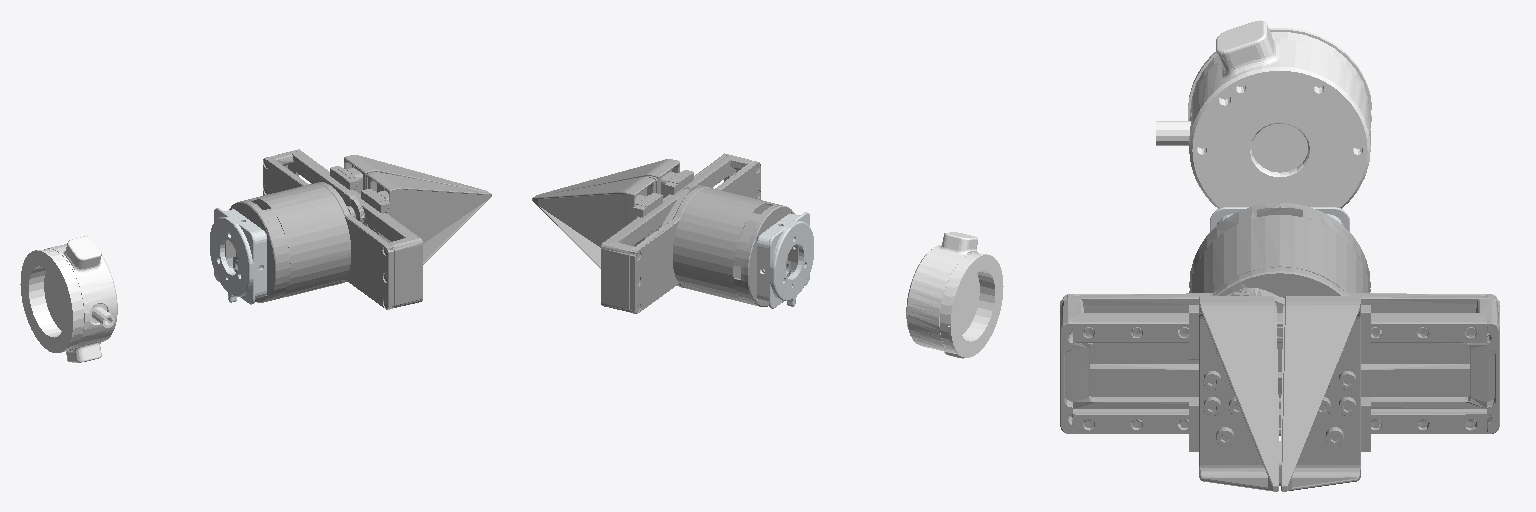
URDF robot description (play_g2):
<?xml version="1.0" ?>
<robot name="play_g2">
  <mujoco>
    <compiler meshdir="../meshes"/>
  </mujoco>
  <link name="base_link">
    <inertial>
      <origin xyz="-0.018345 -0.002558 0.03724" rpy="0 0 0"/>
      <mass value="0.6735"/>
      <inertia ixx="0.00121381" ixy="-3.271E-05" ixz="-0.00023366" iyy="0.00164872" iyz="-2.757E-05" izz="0.00126552"/>
    </inertial>
    <visual>
      <origin xyz="0 0 0" rpy="0 0 0"/>
      <geometry>
        <mesh filename="package://play_g2/meshes/base_link.STL"/>
      </geometry>
      <material name="">
        <color rgba="0.75294 0.75294 0.75294 1"/>
      </material>
    </visual>
    <collision>
      <origin xyz="0 0 0" rpy="0 0 0"/>
      <geometry>
        <mesh filename="package://play_g2/meshes/base_link.STL"/>
      </geometry>
    </collision>
  </link>
  <link name="link1">
    <inertial>
      <origin xyz="0.00014396 -0.00098536 -0.020968" rpy="0 0 0"/>
      <mass value="0.607"/>
      <inertia ixx="0.0011117" ixy="1.605E-05" ixz="-1.45E-06" iyy="0.0010136" iyz="-7.07E-06" izz="0.0003867"/>
    </inertial>
    <visual>
      <origin xyz="0 0 0" rpy="0 0 0"/>
      <geometry>
        <mesh filename="package://play_g2/meshes/link1.STL"/>
      </geometry>
      <material name="">
        <color rgba="0.75294 0.75294 0.75294 1"/>
      </material>
    </visual>
    <collision>
      <origin xyz="0 0 0" rpy="0 0 0"/>
      <geometry>
        <mesh filename="package://play_g2/meshes/link1.STL"/>
      </geometry>
    </collision>
  </link>
  <link name="link2">
    <inertial>
      <origin xyz="0.13769 0.012537 0.0044739" rpy="0 0 0"/>
      <mass value="0.918"/>
      <inertia ixx="0.00094437" ixy="0.00112155" ixz="-0.00063705" iyy="0.03479442" iyz="-7.45E-06" izz="0.03461144"/>
    </inertial>
    <visual>
      <origin xyz="0 0 0" rpy="0 0 0"/>
      <geometry>
        <mesh filename="package://play_g2/meshes/link2.STL"/>
      </geometry>
      <material name="">
        <color rgba="0.75294 0.75294 0.75294 1"/>
      </material>
    </visual>
    <collision>
      <origin xyz="0 0 0" rpy="0 0 0"/>
      <geometry>
        <mesh filename="package://play_g2/meshes/link2.STL"/>
      </geometry>
    </collision>
  </link>
  <link name="link3">
    <inertial>
      <origin xyz="1.5134E-05 0.10706 0.0082136" rpy="0 0 0"/>
      <mass value="0.7"/>
      <inertia ixx="0.01565914" ixy="1.007E-05" ixz="1.02E-06" iyy="0.00045929" iyz="0.00010253" izz="0.0154811"/>
    </inertial>
    <visual>
      <origin xyz="0 0 0" rpy="0 0 0"/>
      <geometry>
        <mesh filename="package://play_g2/meshes/link3.STL"/>
      </geometry>
      <material name="">
        <color rgba="0.75294 0.75294 0.75294 1"/>
      </material>
    </visual>
    <collision>
      <origin xyz="0 0 0" rpy="0 0 0"/>
      <geometry>
        <mesh filename="package://play_g2/meshes/link3.STL"/>
      </geometry>
    </collision>
  </link>
  <link name="link4">
    <inertial>
      <origin xyz="-1.6216E-05 0.002995 -0.019407" rpy="0 0 0"/>
      <mass value="0.359"/>
      <inertia ixx="0.00051773" ixy="-4E-08" ixz="1.5E-07" iyy="0.00052925" iyz="-4.05E-06" izz="0.00013681"/>
    </inertial>
    <visual>
      <origin xyz="0 0 0" rpy="0 0 0"/>
      <geometry>
        <mesh filename="package://play_g2/meshes/link4.STL"/>
      </geometry>
      <material name="">
        <color rgba="0.75294 0.75294 0.75294 1"/>
      </material>
    </visual>
    <collision>
      <origin xyz="0 0 0" rpy="0 0 0"/>
      <geometry>
        <mesh filename="package://play_g2/meshes/link4.STL"/>
      </geometry>
    </collision>
  </link>
  <link name="link5">
    <inertial>
      <origin xyz="-4.5037E-05 0.033144 0.0024106" rpy="0 0 0"/>
      <mass value="0.403"/>
      <inertia ixx="0.00116016" ixy="-3.1E-07" ixz="-2.4E-07" iyy="0.00024251" iyz="-4.809E-05" izz="0.00108456"/>
    </inertial>
    <visual>
      <origin xyz="0 0 0" rpy="0 0 0"/>
      <geometry>
        <mesh filename="package://play_g2/meshes/link5.STL"/>
      </geometry>
      <material name="">
        <color rgba="0.75294 0.75294 0.75294 1"/>
      </material>
    </visual>
    <collision>
      <origin xyz="0 0 0" rpy="0 0 0"/>
      <geometry>
        <mesh filename="package://play_g2/meshes/link5.STL"/>
      </geometry>
    </collision>
  </link>
  <link name="link6">
    <inertial>
      <origin xyz="-4.6366E-05 4.3424E-05 0.066592" rpy="0 0 0"/>
      <mass value="0.11"/>
      <inertia ixx="0.00051056" ixy="0" ixz="-3.4E-07" iyy="0.00051056" iyz="3.2E-07" izz="1.73E-05"/>
    </inertial>
    <visual>
      <origin xyz="0 0 0" rpy="0 0 0"/>
      <geometry>
        <mesh filename="package://play_g2/meshes/link6.STL"/>
      </geometry>
      <material name="">
        <color rgba="1 1 1 1"/>
      </material>
    </visual>
    <collision>
      <origin xyz="0 0 0" rpy="0 0 0"/>
      <geometry>
        <mesh filename="package://play_g2/meshes/link6.STL"/>
      </geometry>
    </collision>
  </link>
  <link name="eef_connect_base_link">
    <inertial>
      <origin xyz="3.5687E-06 0.00020484 -0.004811" rpy="0 0 0"/>
      <mass value="0.019009"/>
      <inertia ixx="4.0476E-06" ixy="-9.5794E-10" ixz="1.8201E-10" iyy="3.9455E-06" iyz="7.997E-09" izz="7.498E-06"/>
    </inertial>
    <visual>
      <origin xyz="0 0 0" rpy="0 0 0"/>
      <geometry>
        <mesh filename="package://play_g2/meshes/eef_connect_base_link.STL"/>
      </geometry>
      <material name="">
        <color rgba="0.89804 0.91765 0.92941 1"/>
      </material>
    </visual>
    <collision>
      <origin xyz="0 0 0" rpy="0 0 0"/>
      <geometry>
        <mesh filename="package://play_g2/meshes/eef_connect_base_link.STL"/>
      </geometry>
    </collision>
  </link>
  <joint name="joint1" type="revolute">
    <origin xyz="0 0 0.1127" rpy="0 0 0"/>
    <parent link="base_link"/>
    <child link="link1"/>
    <axis xyz="0 0 1"/>
    <limit lower="-3.1416" upper="2.0944" effort="0" velocity="0"/>
  </joint>
  <joint name="joint2" type="revolute">
    <origin xyz="0 0 0" rpy="-1.5708 -0.3867 3.1416"/>
    <parent link="link1"/>
    <child link="link2"/>
    <axis xyz="0 0 1"/>
    <limit lower="-2.9671" upper="0.17453" effort="0" velocity="0"/>
  </joint>
  <joint name="joint3" type="revolute">
    <origin xyz="0.27009 0 0" rpy="0 0 1.9575"/>
    <parent link="link2"/>
    <child link="link3"/>
    <axis xyz="0 0 1"/>
    <limit lower="-0.087266" upper="3.1416" effort="0" velocity="0"/>
  </joint>
  <joint name="joint4" type="revolute">
    <origin xyz="0 0.29015 0" rpy="-1.5708 -1.5708 0"/>
    <parent link="link3"/>
    <child link="link4"/>
    <axis xyz="0 0 1"/>
    <limit lower="-3.0107" upper="3.0107" effort="0" velocity="0"/>
  </joint>
  <joint name="joint5" type="revolute">
    <origin xyz="0 0 0" rpy="1.5708 0 0"/>
    <parent link="link4"/>
    <child link="link5"/>
    <axis xyz="0 0 1"/>
    <limit lower="-1.7628" upper="1.7628" effort="0" velocity="0"/>
  </joint>
  <joint name="joint6" type="revolute">
    <origin xyz="0 0 0" rpy="-1.5708 0 0"/>
    <parent link="link5"/>
    <child link="link6"/>
    <axis xyz="0 0 1"/>
    <limit lower="-3.0107" upper="3.0107" effort="0" velocity="0"/>
  </joint>
  <joint name="arm_connect_joint" type="fixed">
    <parent link="link6"/>
    <child link="eef_connect_base_link"/>
    <origin xyz="0.0 0.0 0.0955" rpy="0.0 0.0 0.0"/>
  </joint>
  <link name="g2_base_link">
    <inertial>
      <origin xyz="5.9308E-05 -3.262E-05 0.041814" rpy="0 0 0"/>
      <mass value="0.488"/>
      <inertia ixx="0.00115523" ixy="-2E-06" ixz="2.2E-07" iyy="0.00137334" iyz="-8.7E-07" izz="0.00042051"/>
    </inertial>
    <visual>
      <origin xyz="0 0 0" rpy="0 0 0"/>
      <geometry>
        <mesh filename="package://play_g2/meshes/g2_base_link.STL"/>
      </geometry>
      <material name="">
        <color rgba="0.75294 0.75294 0.75294 1"/>
      </material>
    </visual>
    <collision>
      <origin xyz="0 0 0" rpy="0 0 0"/>
      <geometry>
        <mesh filename="package://play_g2/meshes/g2_base_link.STL"/>
      </geometry>
    </collision>
  </link>
  <link name="g2_left_link">
    <inertial>
      <origin xyz="0.018307 5.9636E-06 0.012505" rpy="0 0 0"/>
      <mass value="0.054004"/>
      <inertia ixx="2.46E-05" ixy="0" ixz="7.55E-06" iyy="4.78E-05" iyz="0" izz="4.892E-05"/>
    </inertial>
    <visual>
      <origin xyz="0 0 0" rpy="0 0 0"/>
      <geometry>
        <mesh filename="package://play_g2/meshes/g2_left_link.STL"/>
      </geometry>
      <material name="">
        <color rgba="0.75294 0.75294 0.75294 1"/>
      </material>
    </visual>
    <collision>
      <origin xyz="0 0 0" rpy="0 0 0"/>
      <geometry>
        <mesh filename="package://play_g2/meshes/g2_left_link.STL"/>
      </geometry>
    </collision>
  </link>
  <link name="g2_right_link">
    <inertial>
      <origin xyz="0.018307 -6.8572E-07 0.012505" rpy="0 0 0"/>
      <mass value="0.054004"/>
      <inertia ixx="2.46E-05" ixy="0" ixz="-7.55E-06" iyy="4.78E-05" iyz="0" izz="4.892E-05"/>
    </inertial>
    <visual>
      <origin xyz="0 0 0" rpy="0 0 0"/>
      <geometry>
        <mesh filename="package://play_g2/meshes/g2_right_link.STL"/>
      </geometry>
      <material name="">
        <color rgba="0.75294 0.75294 0.75294 1"/>
      </material>
    </visual>
    <collision>
      <origin xyz="0 0 0" rpy="0 0 0"/>
      <geometry>
        <mesh filename="package://play_g2/meshes/g2_right_link.STL"/>
      </geometry>
    </collision>
  </link>
  <joint name="g2_left_joint" type="prismatic">
    <origin xyz="0 0 0.0705" rpy="0 -1.5708 0"/>
    <parent link="g2_base_link"/>
    <child link="g2_left_link"/>
    <axis xyz="0 0 1"/>
    <limit lower="0" upper="0.0366" effort="0" velocity="0"/>
  </joint>
  <joint name="g2_right_joint" type="prismatic">
    <origin xyz="0 0 0.0705" rpy="3.1416 -1.5708 0"/>
    <parent link="g2_base_link"/>
    <child link="g2_right_link"/>
    <axis xyz="0 0 1"/>
    <limit lower="0" upper="0.0366" effort="0" velocity="0"/>
    <mimic joint="g2_left_joint" multiplier="1"/>
  </joint>
  <joint name="connect_eef_joint" type="fixed">
    <parent link="eef_connect_base_link"/>
    <child link="g2_base_link"/>
    <origin xyz="0.0 0.0 0.0" rpy="0.0 0.0 0.0"/>
  </joint>
</robot>

--- Render facts (derived) ---
The picture shows the robot from 3 angles, left to right: view 1: azimuth 30°, elevation 25°; view 2: azimuth 150°, elevation 25°; view 3: azimuth 270°, elevation 25°; orthographic projection.
Model play_g2 with 11 links and 10 joints (6 revolute, 2 prismatic, 2 fixed), rooted at base_link, posed all joints at 0.
Links seen in each view (by area): view 1: g2_base_link, link6, g2_right_link, eef_connect_base_link, g2_left_link; view 2: g2_base_link, link6, g2_left_link, eef_connect_base_link, g2_right_link; view 3: g2_base_link, link6, g2_left_link, g2_right_link, eef_connect_base_link.
Link boxes in pixels (x1,y1,x2,y2): g2_base_link: [225, 149, 422, 309]; link6: [20, 236, 117, 362]; g2_right_link: [361, 173, 491, 264]; eef_connect_base_link: [210, 208, 266, 304]; g2_left_link: [330, 155, 487, 226]; g2_base_link: [601, 153, 798, 313]; link6: [906, 232, 1003, 358]; g2_left_link: [532, 177, 662, 268]; eef_connect_base_link: [757, 212, 813, 308]; g2_right_link: [535, 159, 693, 230]; g2_base_link: [1060, 203, 1499, 435]; link6: [1156, 20, 1371, 208]; g2_left_link: [1280, 296, 1370, 491]; g2_right_link: [1189, 296, 1279, 491]; eef_connect_base_link: [1210, 207, 1349, 231].
Size in the robot's own frame: 0.2805 by 0.138 by 0.0733 metres.
Meshes: 11 distinct files referenced, 5 mesh visuals loaded (5 binary STL); not drawn: 6 (reference not matched to a file when rendering).